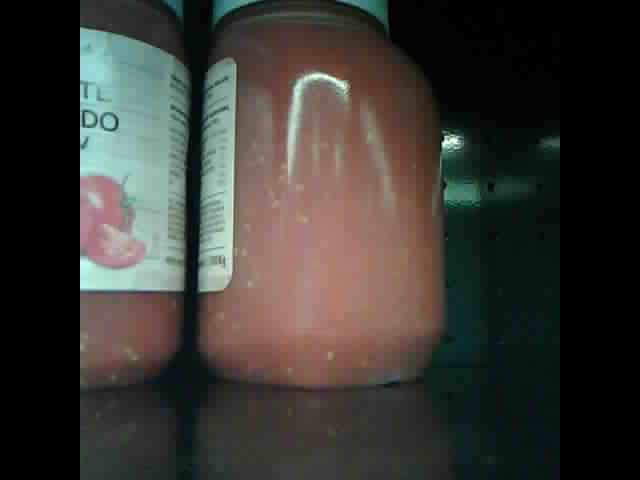tomate: (194, 2, 447, 386), (82, 2, 190, 391)
